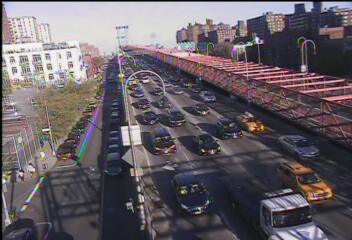neg: (282, 101, 308, 136), (314, 24, 335, 51), (40, 95, 55, 115), (300, 5, 315, 24), (268, 10, 282, 27), (267, 41, 281, 58), (225, 14, 237, 31), (238, 73, 250, 90), (266, 128, 276, 142), (68, 38, 77, 51), (48, 76, 57, 88), (241, 112, 250, 124), (22, 82, 30, 93), (43, 124, 50, 133)
pos: (12, 165, 26, 183), (28, 161, 39, 176), (31, 150, 40, 162), (37, 137, 45, 148)
